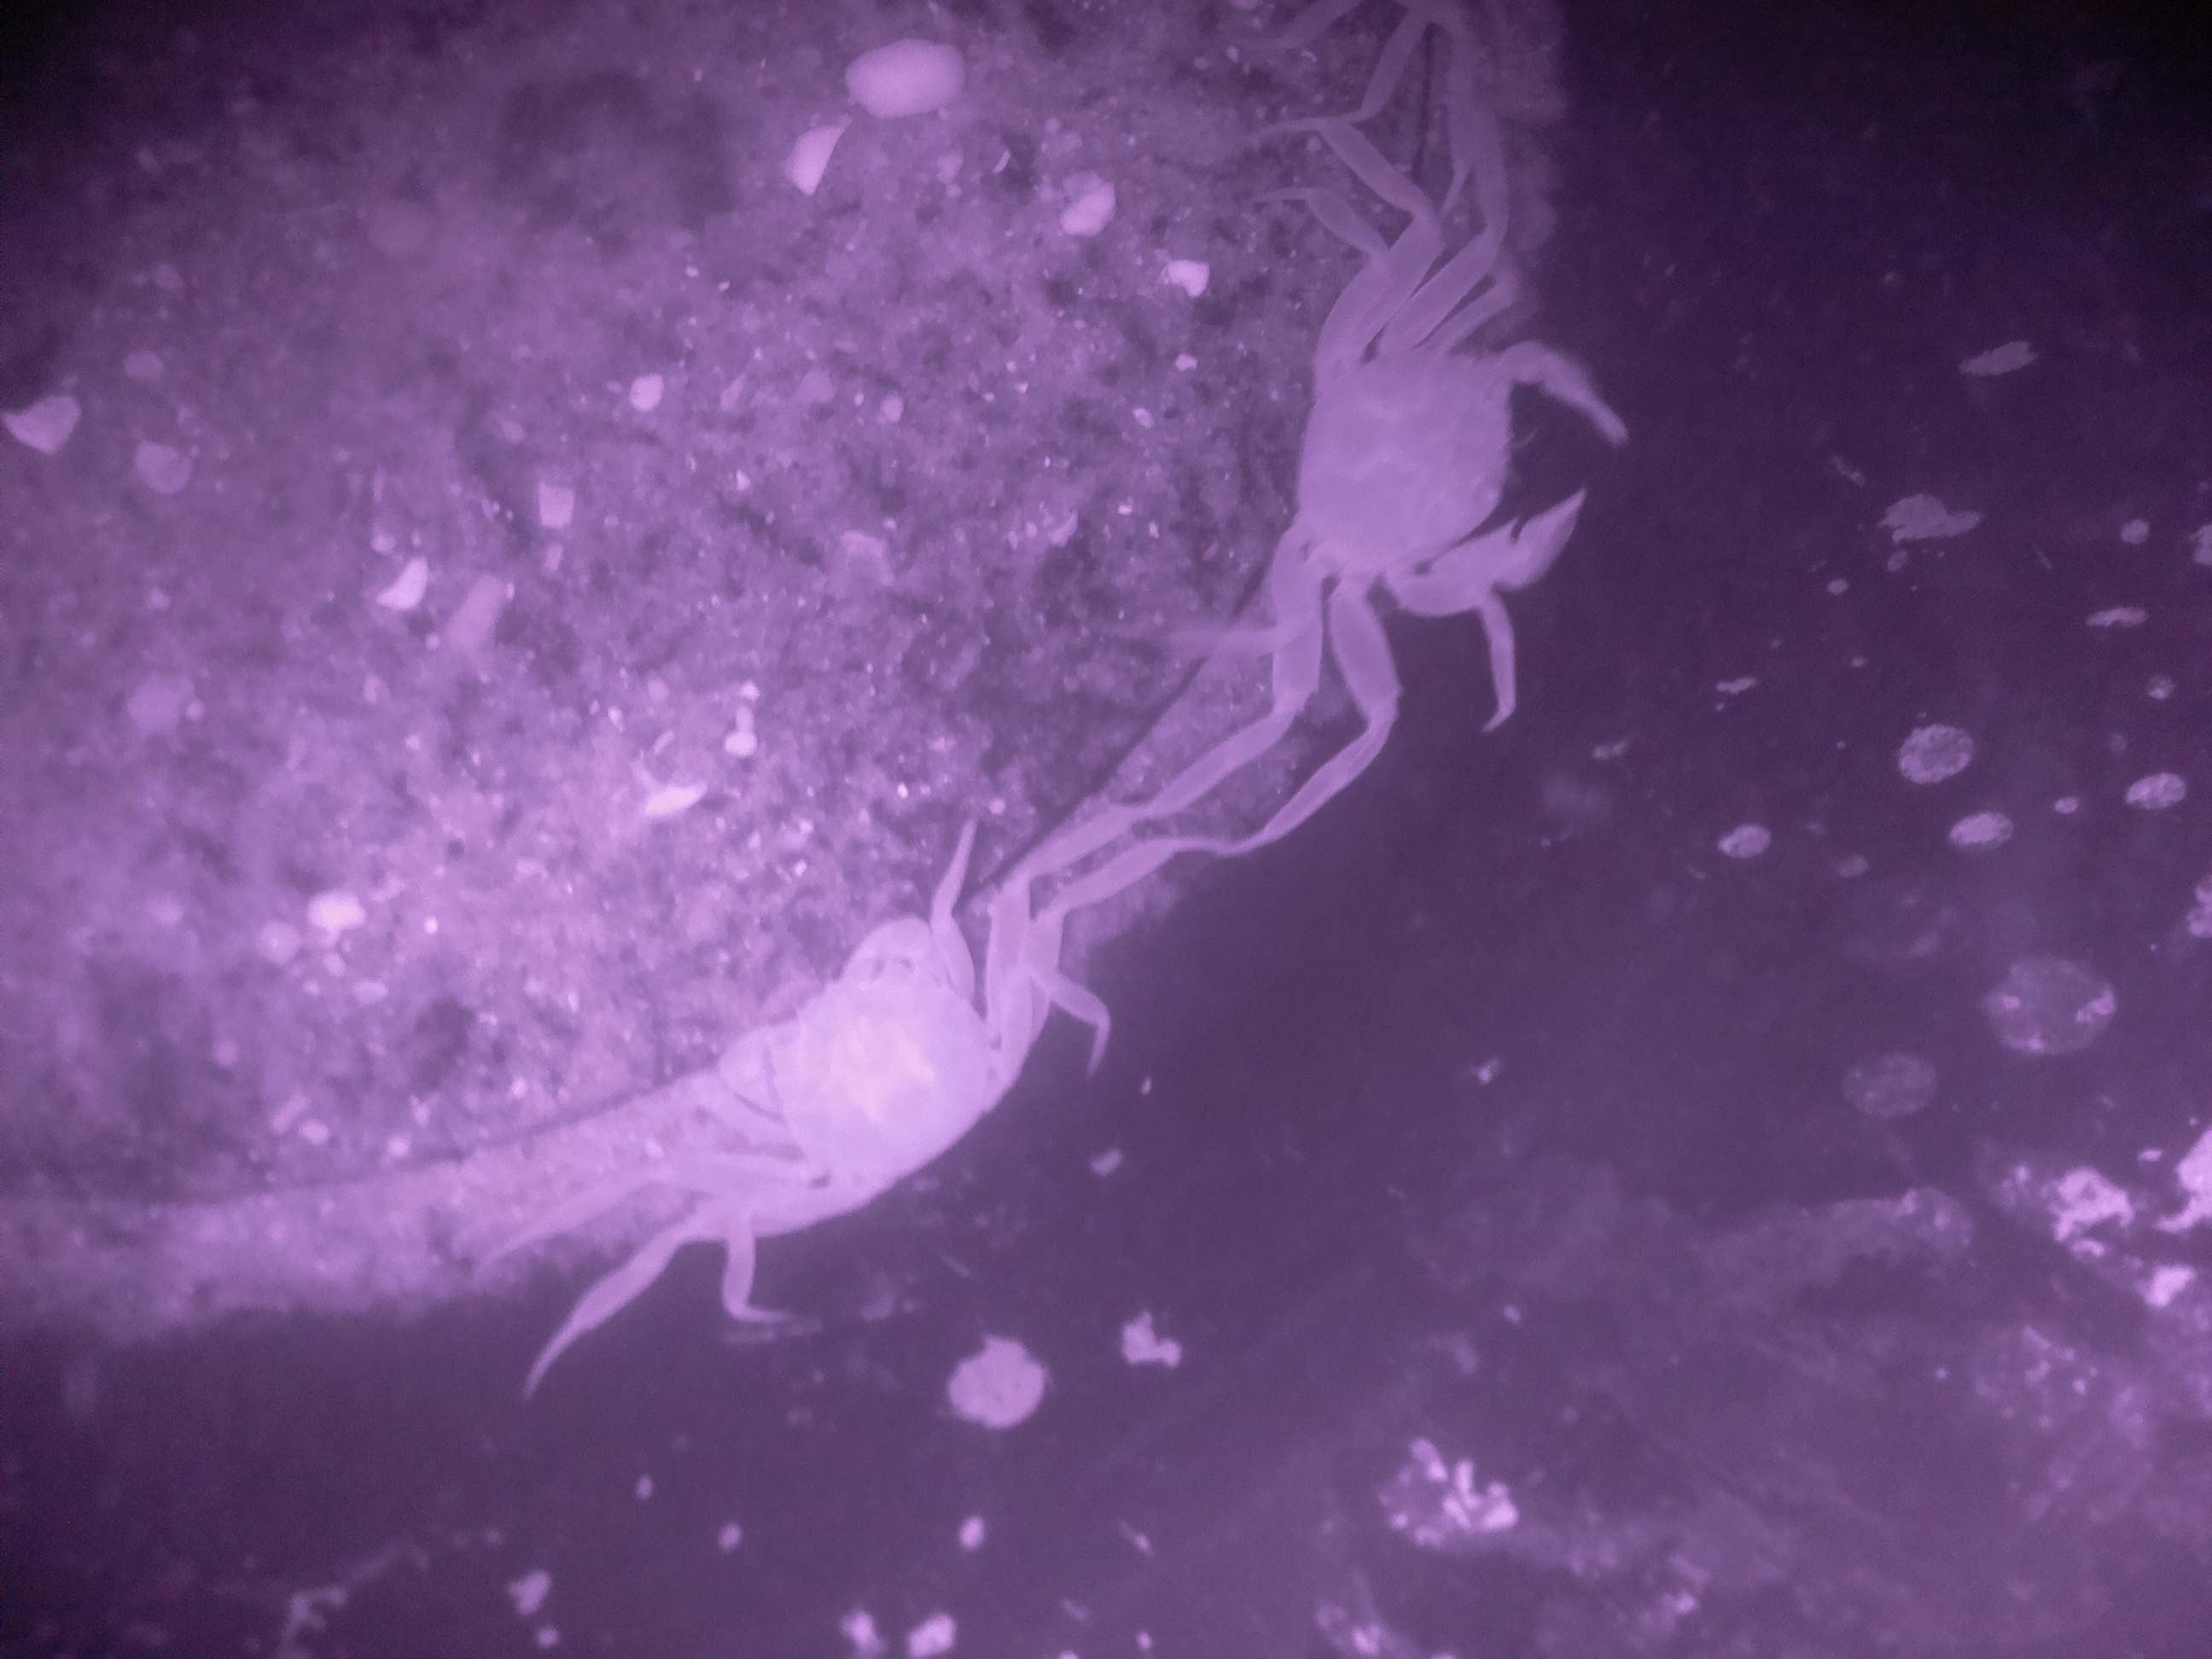Crab: (613, 824, 1160, 1316), (1233, 223, 1683, 739)
